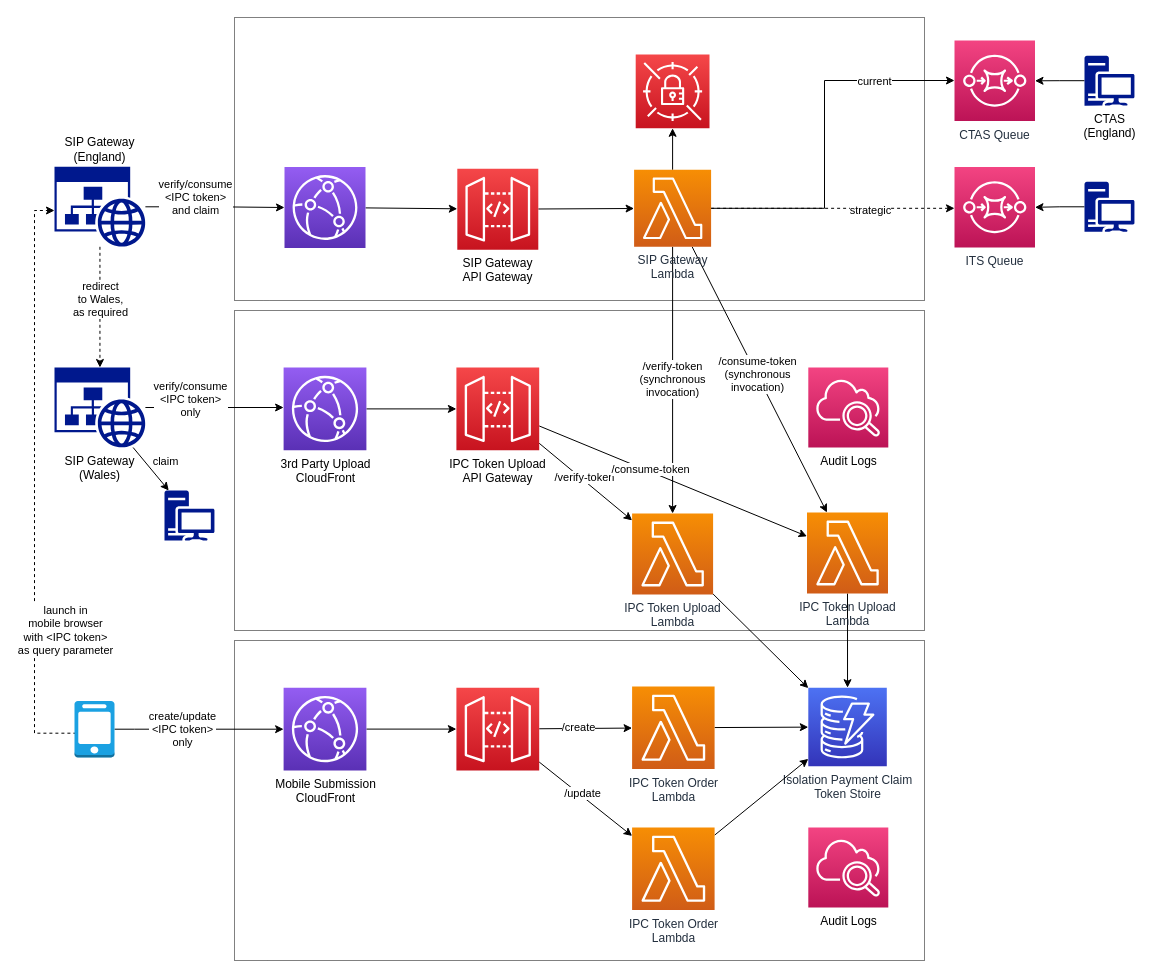
Some shapes in this 1152 by 978 pixel diagram are drawn without their labels. The box of each missing label's shape, as (x1, y1, x2, y2) in pixels:
COVID-19 App: (73, 699, 115, 758)
IPC Token Order API Gateway: (455, 687, 539, 770)
Isolation Payment Claim - Submission SIP Gateway (England): (234, 16, 924, 300)
Isolation Payment Claim Token - Submission: (234, 640, 924, 960)
Isolation Payment Claim Token - Upload: (234, 310, 924, 630)
ITS (England): (1084, 181, 1134, 231)
NWIS (Wales): (164, 490, 214, 540)
SIP Gateway CloudFront: (284, 166, 366, 248)
